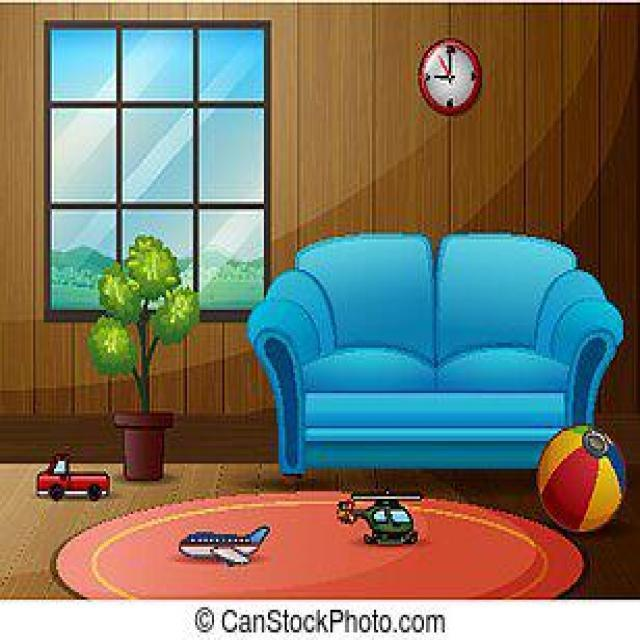couch: (247, 232, 625, 479)
